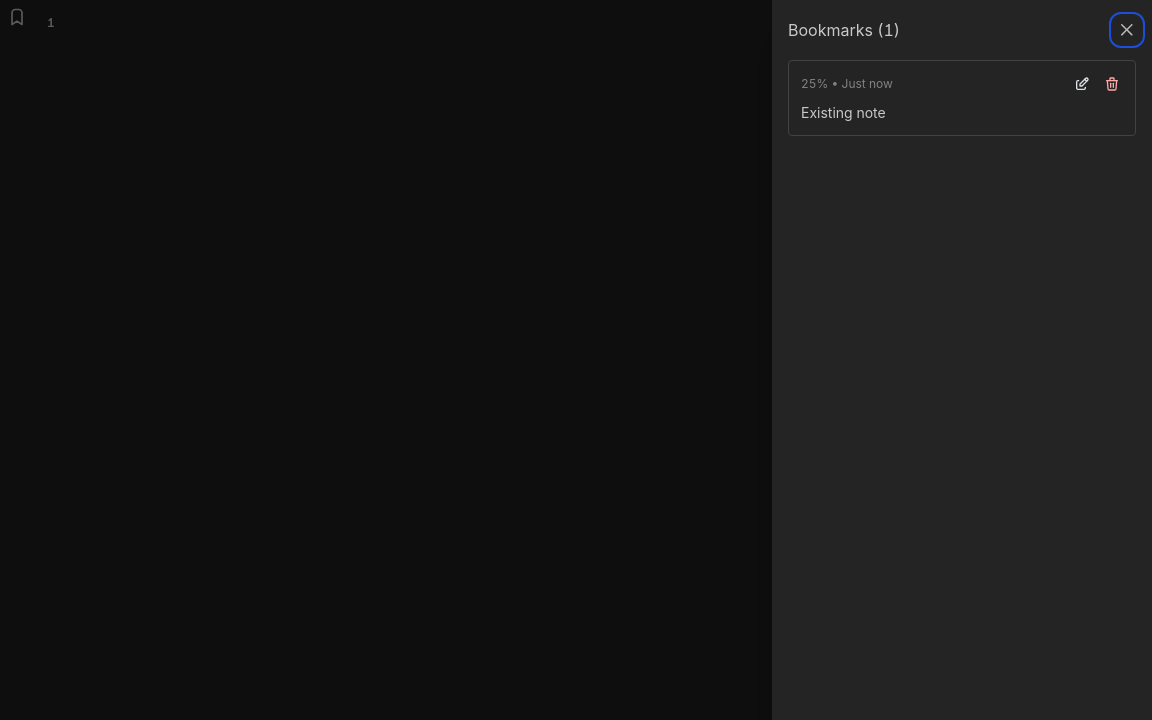
Scenario: EpubBookmarks › note editing › should show textarea when clicking edit button
Click the button named "Edit note".
click(1082, 84)  # box [1071,73,1093,95]
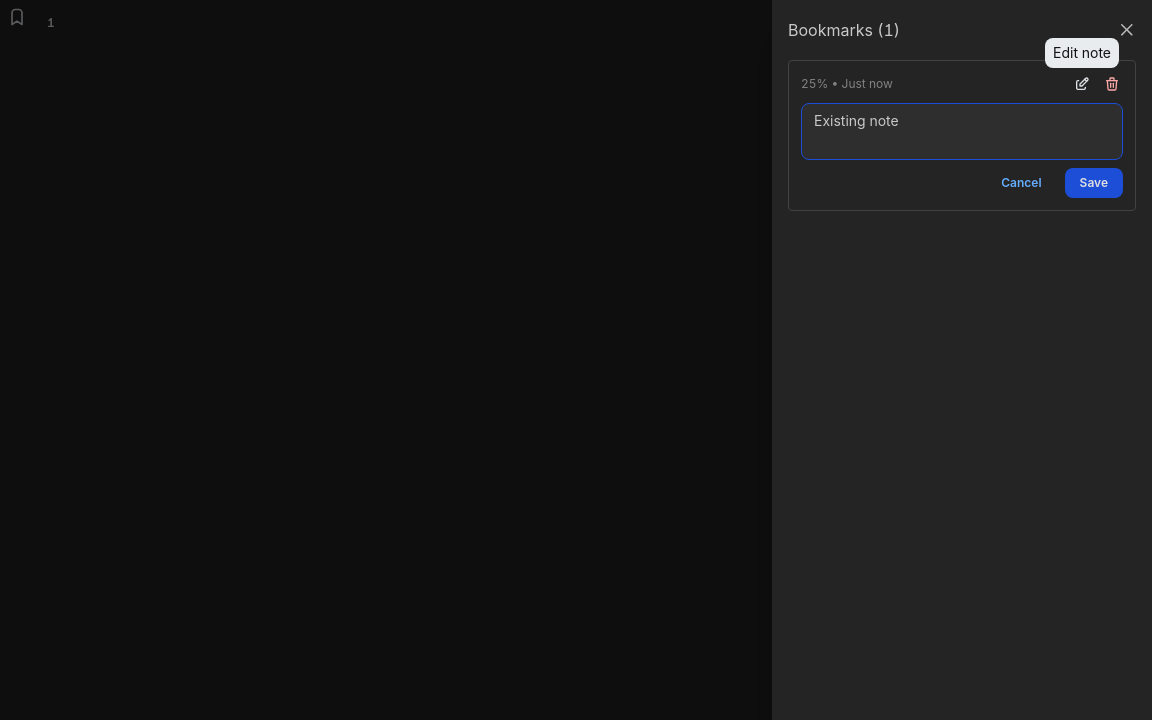
Check: the text box holds "Existing note", box [801,103,1123,160]
